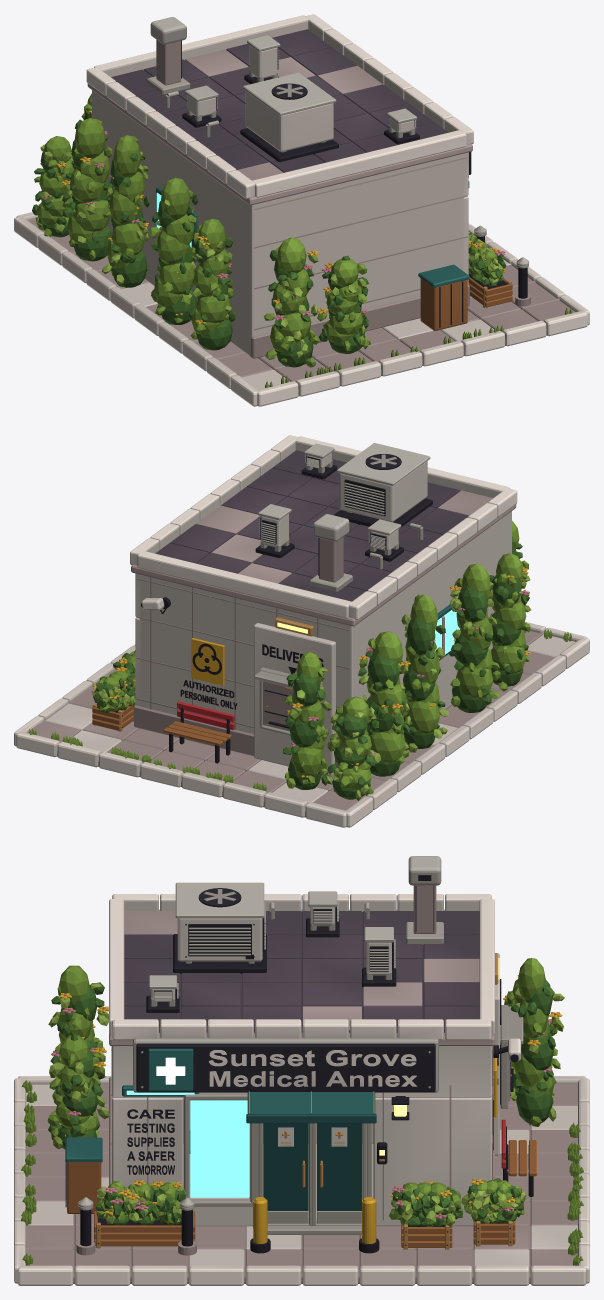
File: bld.clinic-annex.glb
The picture shows the model from 3 angles, top to bottom: view 1: azimuth 30°, elevation 25°; view 2: azimuth 150°, elevation 25°; view 3: azimuth 270°, elevation 25°; orthographic projection. The views are drawn at different scales.
Visible parts, largest first — view 1: body, roof; view 2: body, roof, door_delivery, window_rear; view 3: body, roof, window_front, window_door_L, window_door_R, door_main_right, door_main, interior, object 12, door_delivery.
Boxes of the visible parts, x1,y1,x2,y2 form: body: (14, 90, 589, 406); roof: (86, 14, 473, 205); body: (14, 511, 589, 827); roof: (130, 435, 517, 626); door_delivery: (254, 670, 293, 731); window_rear: (434, 610, 459, 658); body: (14, 953, 589, 1285); roof: (109, 856, 494, 1045); window_front: (126, 1090, 249, 1197); window_door_L: (263, 1123, 308, 1210); window_door_R: (317, 1123, 361, 1210); door_main_right: (312, 1123, 366, 1225); door_main: (258, 1123, 312, 1225); interior: (183, 1098, 373, 1219); object 12: (156, 1057, 406, 1155); door_delivery: (500, 1006, 523, 1101).
Size of the model in its own units: 7.89 by 5.21 by 9.7.
